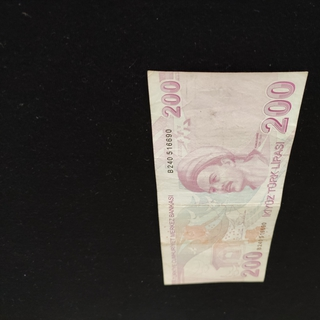200TLBack: (146, 69, 308, 286)
